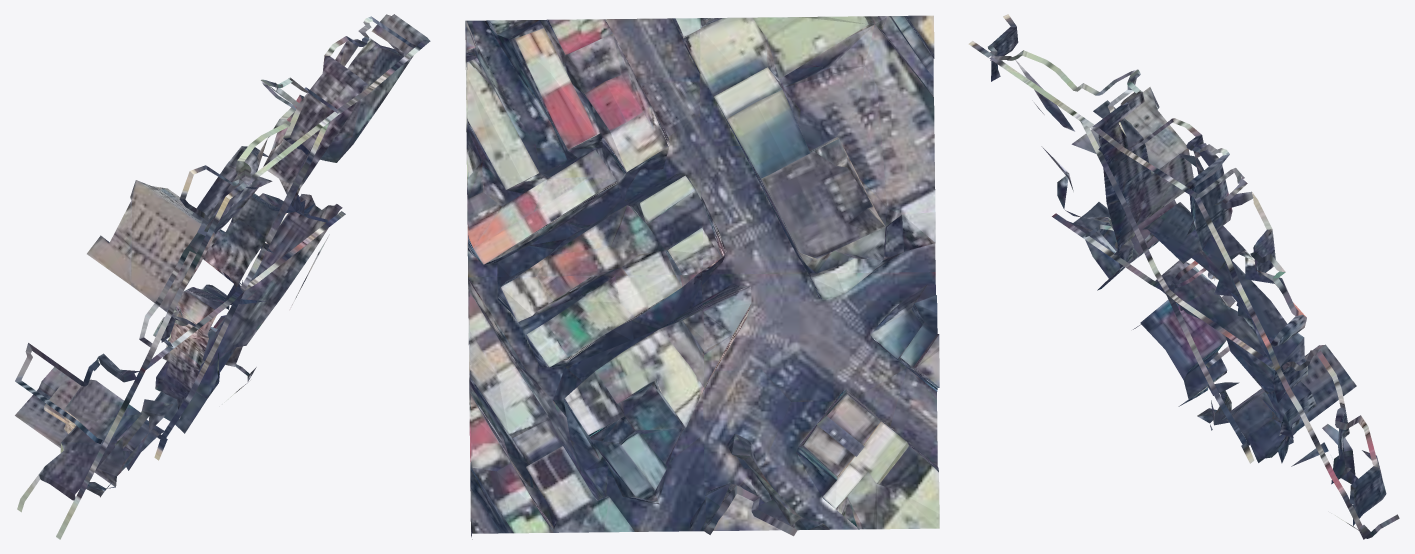
3 views of the same model, side by side, from view 1: azimuth 30°, elevation 25°; view 2: azimuth 150°, elevation 25°; view 3: azimuth 270°, elevation 25° (orthographic). The views are drawn at different scales.
Size of the model in its own units: 161 by 149 by 140.
Materials: 1 (1 with a texture image).
